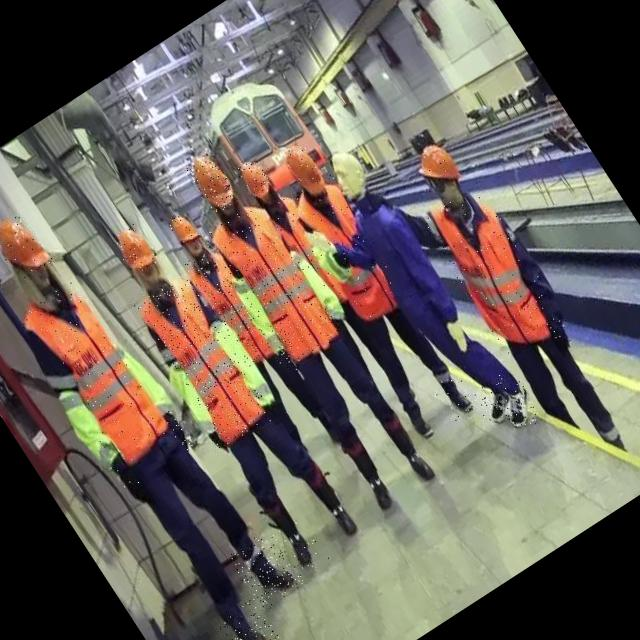hard_hat: (0, 211, 53, 281), (184, 150, 240, 214), (280, 140, 332, 203), (408, 138, 462, 192), (110, 222, 160, 278), (234, 156, 276, 203), (166, 210, 202, 250)
safety_vest: (16, 278, 172, 469), (418, 180, 570, 362), (134, 272, 276, 446), (206, 198, 344, 367), (287, 172, 412, 326), (180, 241, 282, 367), (262, 192, 353, 310)
work_boots: (226, 527, 306, 612), (492, 375, 546, 434), (215, 596, 287, 640), (276, 517, 329, 575), (431, 369, 484, 426), (468, 374, 521, 427)
